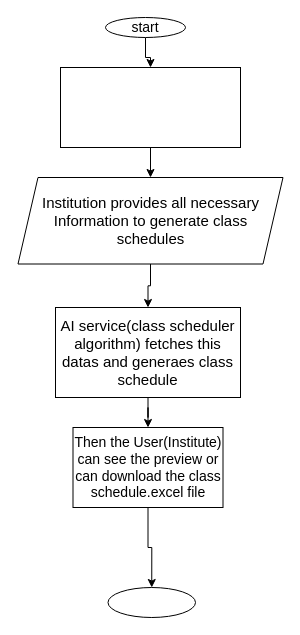
Some shapes in this 300 by 635 pixel diagram are drawn without their labels. The shapes that lost their labels are listed below. From the top down, each one's centre as x and y in pixels, then its label:
the point at 150,107: Institution/College SignUp/Login
the point at 151,602: stop
